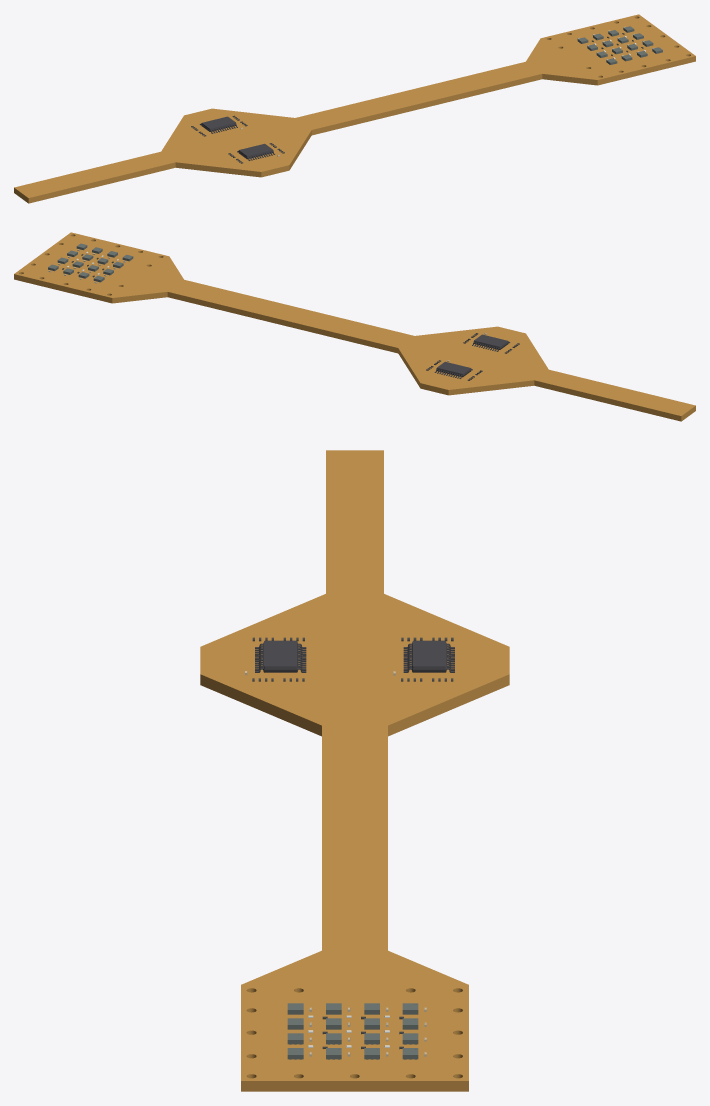
Rendered from board-4x4.glb.
The picture shows the model from 3 angles, top to bottom: view 1: azimuth 30°, elevation 25°; view 2: azimuth 150°, elevation 25°; view 3: azimuth 270°, elevation 25°; orthographic projection. The views are drawn at different scales.
Parts seen in each view (by area): view 1: PCB, U18, U17; view 2: PCB, U17, U18; view 3: PCB, U17, U18.
Boxes of the visible parts, left/top/right/bottom form: PCB: left=14, top=14, right=695, bottom=203; U18: left=237, top=143, right=275, bottom=160; U17: left=199, top=116, right=237, bottom=133; PCB: left=14, top=232, right=695, bottom=421; U17: left=434, top=361, right=472, bottom=378; U18: left=472, top=334, right=510, bottom=351; PCB: left=200, top=450, right=509, bottom=1091; U17: left=403, top=640, right=454, bottom=672; U18: left=255, top=640, right=306, bottom=672.
Bounding box in the file's own units: 0.1868 × 0.00256 × 0.0387.
